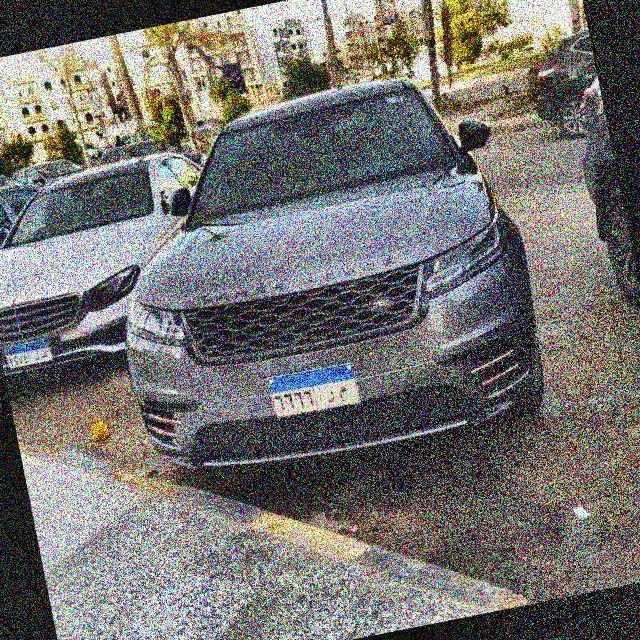License Plate: (262, 356, 367, 423), (0, 334, 57, 374)
